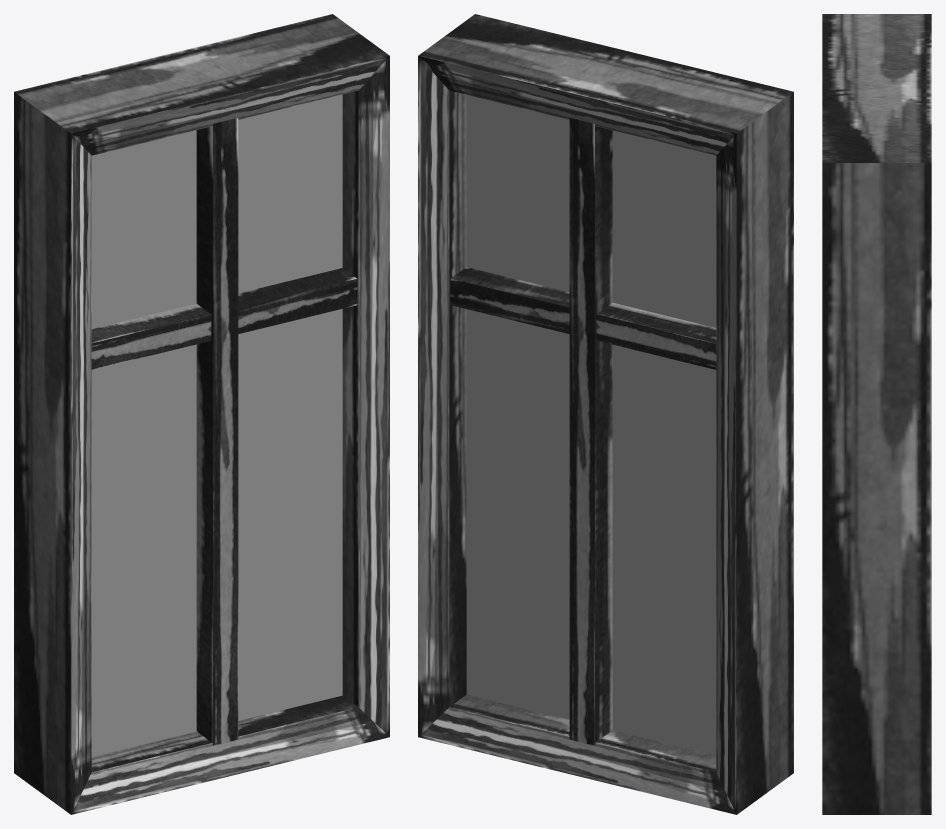
File: WindowHouse.fbx
3 views of the same model, side by side, from view 1: azimuth 30°, elevation 25°; view 2: azimuth 150°, elevation 25°; view 3: azimuth 270°, elevation 25° (orthographic). The views are drawn at different scales.
Visible parts, largest first — view 1: WindowFrame, WindowGlass; view 2: WindowFrame, WindowGlass; view 3: WindowFrame.
Part boxes in pixels (left/top/right/bottom): WindowFrame: left=14, top=14, right=389, bottom=814; WindowGlass: left=91, top=94, right=342, bottom=756; WindowFrame: left=418, top=14, right=793, bottom=814; WindowGlass: left=466, top=95, right=716, bottom=755; WindowFrame: left=822, top=14, right=931, bottom=814.
Size of the model in its own units: 2 by 4.09 by 0.6208.
